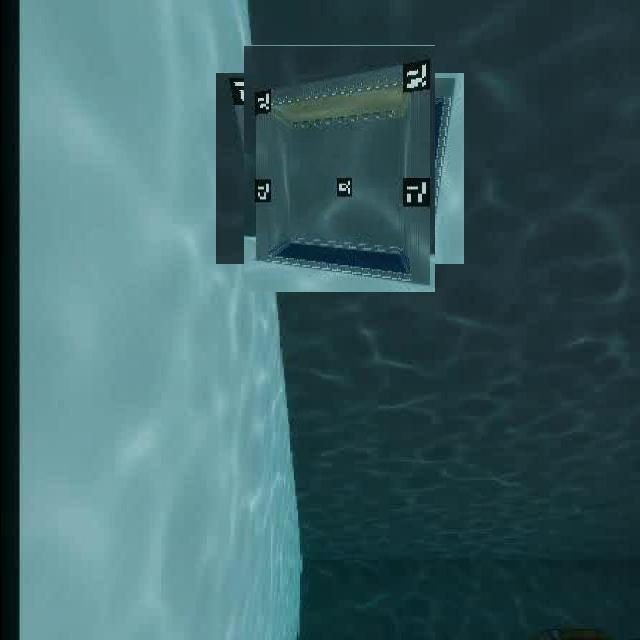Docking Station: (228, 59, 448, 278)
